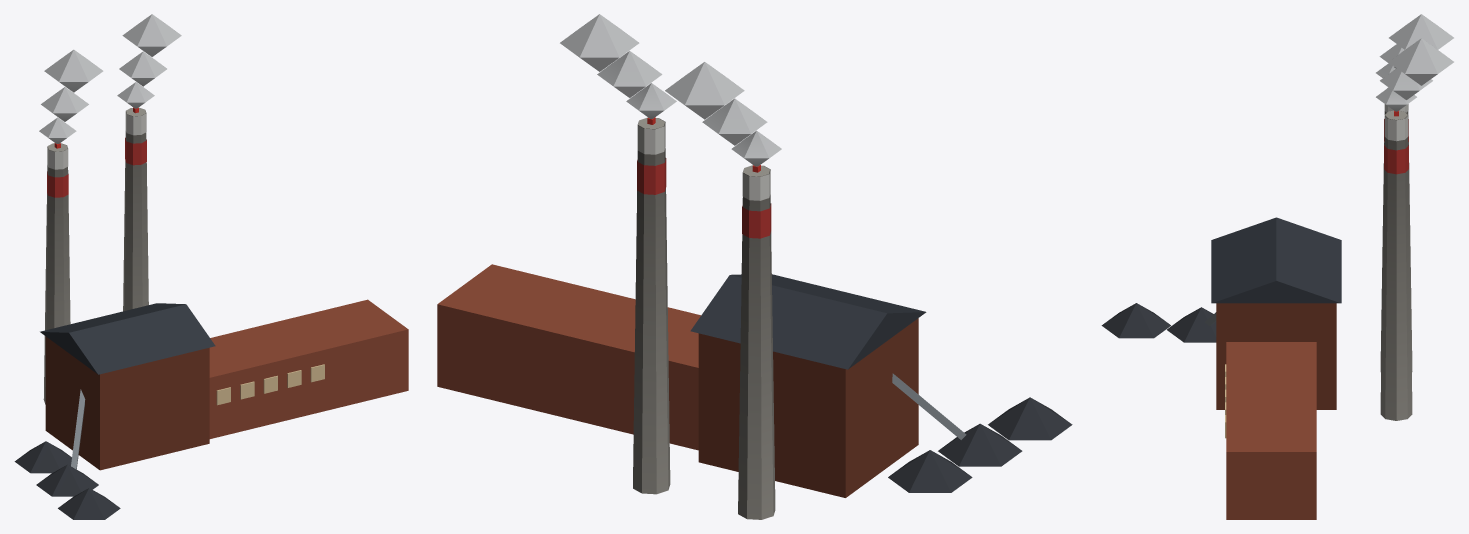
Rendered from plant_steam_l2.fbx.
3 views of the same model, side by side, from view 1: azimuth 30°, elevation 25°; view 2: azimuth 150°, elevation 25°; view 3: azimuth 270°, elevation 25° (orthographic). The views are drawn at different scales.
Visible parts, largest first — view 1: plant_steam_l2; view 2: plant_steam_l2; view 3: plant_steam_l2.
Part boxes in pixels (x1=…): plant_steam_l2: x1=14, y1=14, x2=408, y2=519; plant_steam_l2: x1=437, y1=14, x2=1072, y2=519; plant_steam_l2: x1=1101, y1=14, x2=1453, y2=519.
Size of the model in its own units: 98.06 by 86.28 by 70.6.
